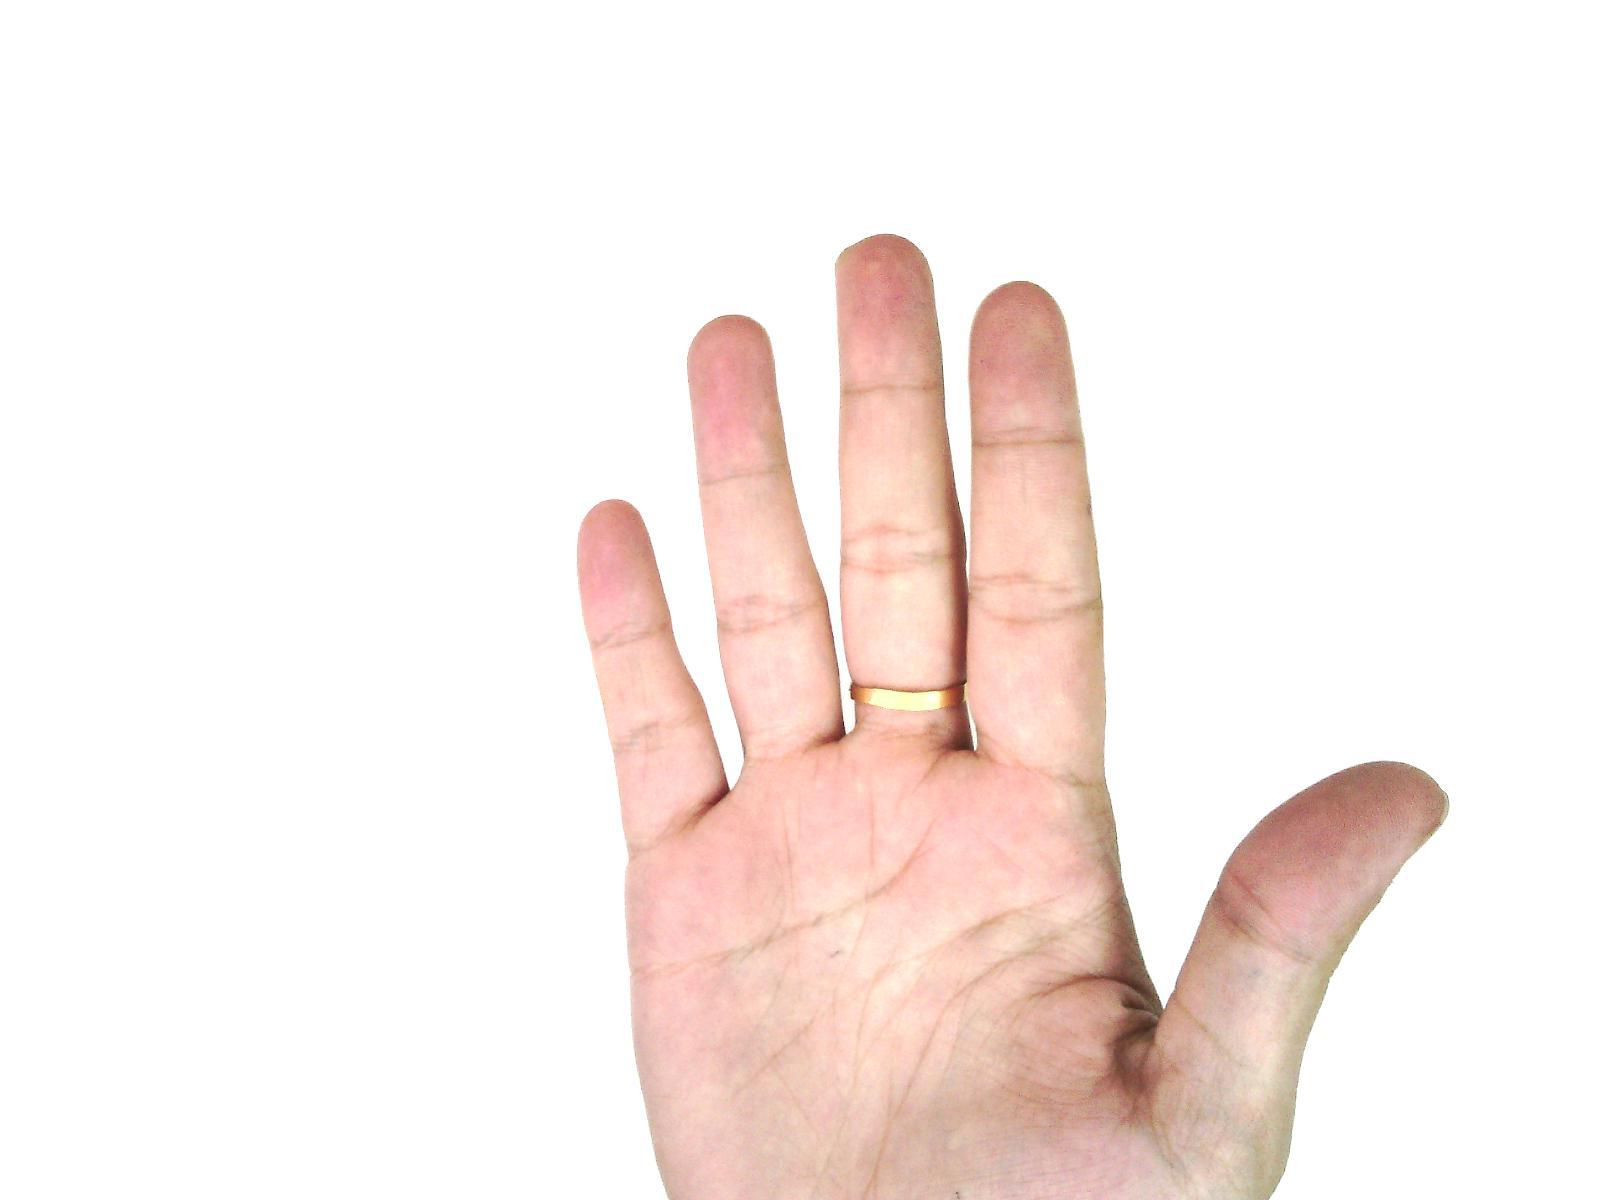hand: (552, 232, 1464, 1200)
